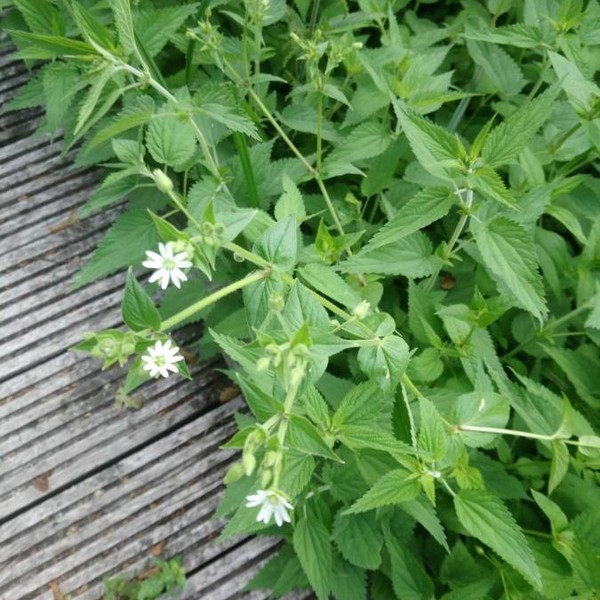obstacle: (128, 45, 526, 559)
